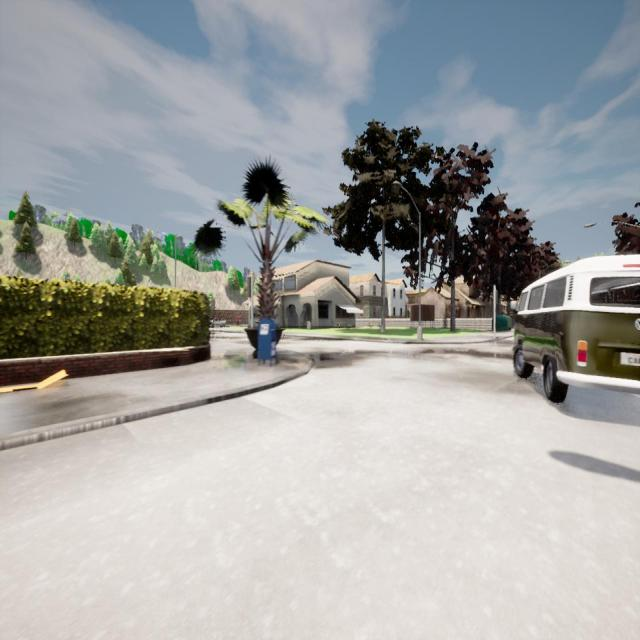Vehicle: (510, 254, 639, 401), (209, 317, 227, 328)
traffic_light: (246, 276, 251, 298), (493, 290, 499, 305)
